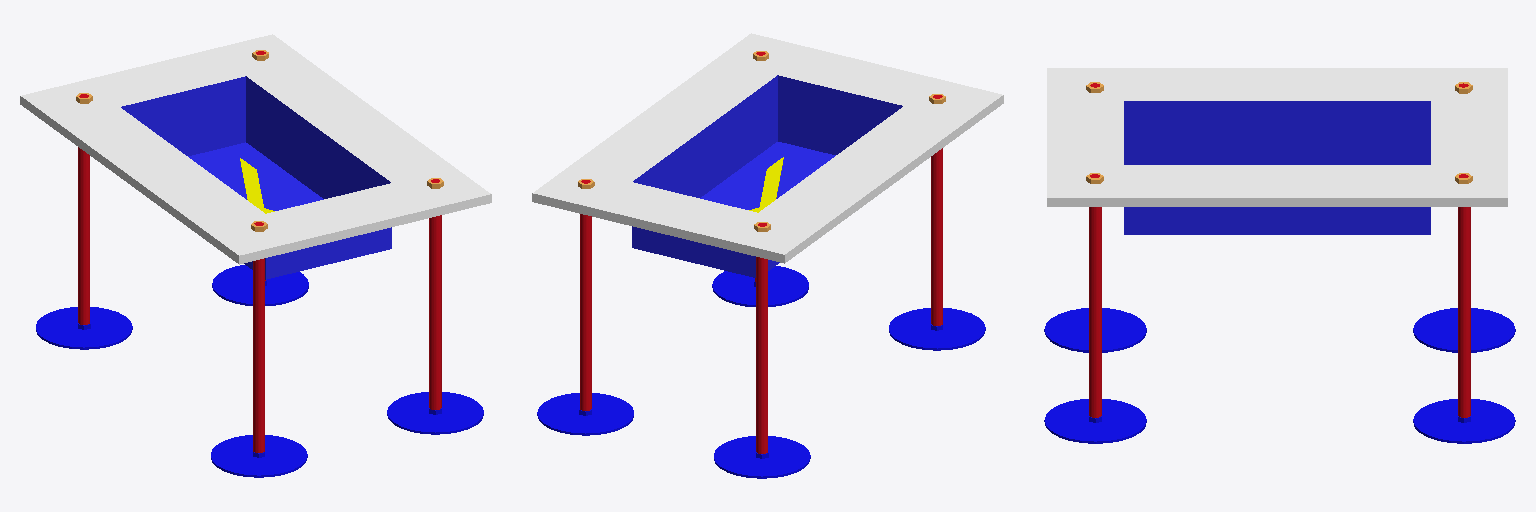
robot.urdf — marker_target_x:
<robot name="marker_target_x">
  <link name="marker_target_x">
    <inertial>
      <origin rpy="0 0 0" xyz="0.31 0.46 0"/>
      <mass value="10"/>
      <inertia ixx="0" ixy="0" ixz="0" iyy="0" iyz="0" izz="0"/>
    </inertial>
    <visual>
      <origin rpy="0 0 0" xyz="0 0 0"/>
      <geometry>
        <mesh filename="package://varun_gazebo/models/marker_target_x/meshes/marker_target_x.dae"/>
      </geometry>
    </visual>
    <collision>
      <origin rpy="0 0 0" xyz="0 0 0"/>
      <geometry>
        <mesh filename="package://varun_gazebo/models/marker_target_x/meshes/marker_target_x.dae"/>
      </geometry>
    </collision>
  </link>
</robot>

--- Facts derived from the render (not from the file) ---
The picture shows the robot from 3 angles, left to right: view 1: azimuth 30°, elevation 25°; view 2: azimuth 150°, elevation 25°; view 3: azimuth 270°, elevation 25°; orthographic projection.
Model marker_target_x with 1 links and 0 joints (none), rooted at marker_target_x, posed all joints at 0.
Visible links, largest first — view 1: marker_target_x; view 2: marker_target_x; view 3: marker_target_x.
Boxes of the visible links, x1,y1,x2,y2 form: marker_target_x: (20,34,491,477); marker_target_x: (532,33,1003,478); marker_target_x: (1044,68,1515,443).
Size in the robot's own frame: 0.6221 by 0.9201 by 0.53 metres.
1 mesh visuals loaded from 1 distinct referenced files (1 Collada DAE).
